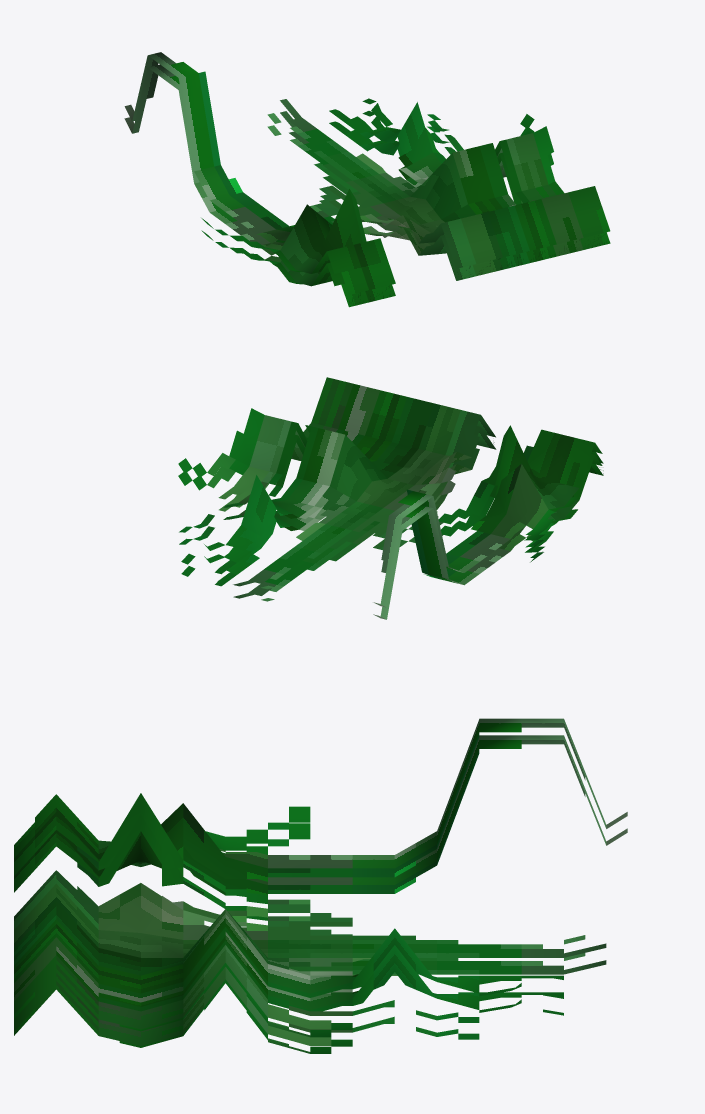
Rendered from ground2.dae.
The picture shows the model from 3 angles, top to bottom: view 1: azimuth 30°, elevation 25°; view 2: azimuth 150°, elevation 25°; view 3: azimuth 270°, elevation 25°; orthographic projection. The views are drawn at different scales.
Parts seen in each view (by area): view 1: pPlane2; view 2: pPlane2; view 3: pPlane2.
Boxes of the visible parts, x1,y1,x2,y2 form: pPlane2: [124, 52, 610, 307]; pPlane2: [178, 377, 603, 619]; pPlane2: [14, 718, 627, 1053].
Size of the model in its own units: 151 by 37.55 by 151.
